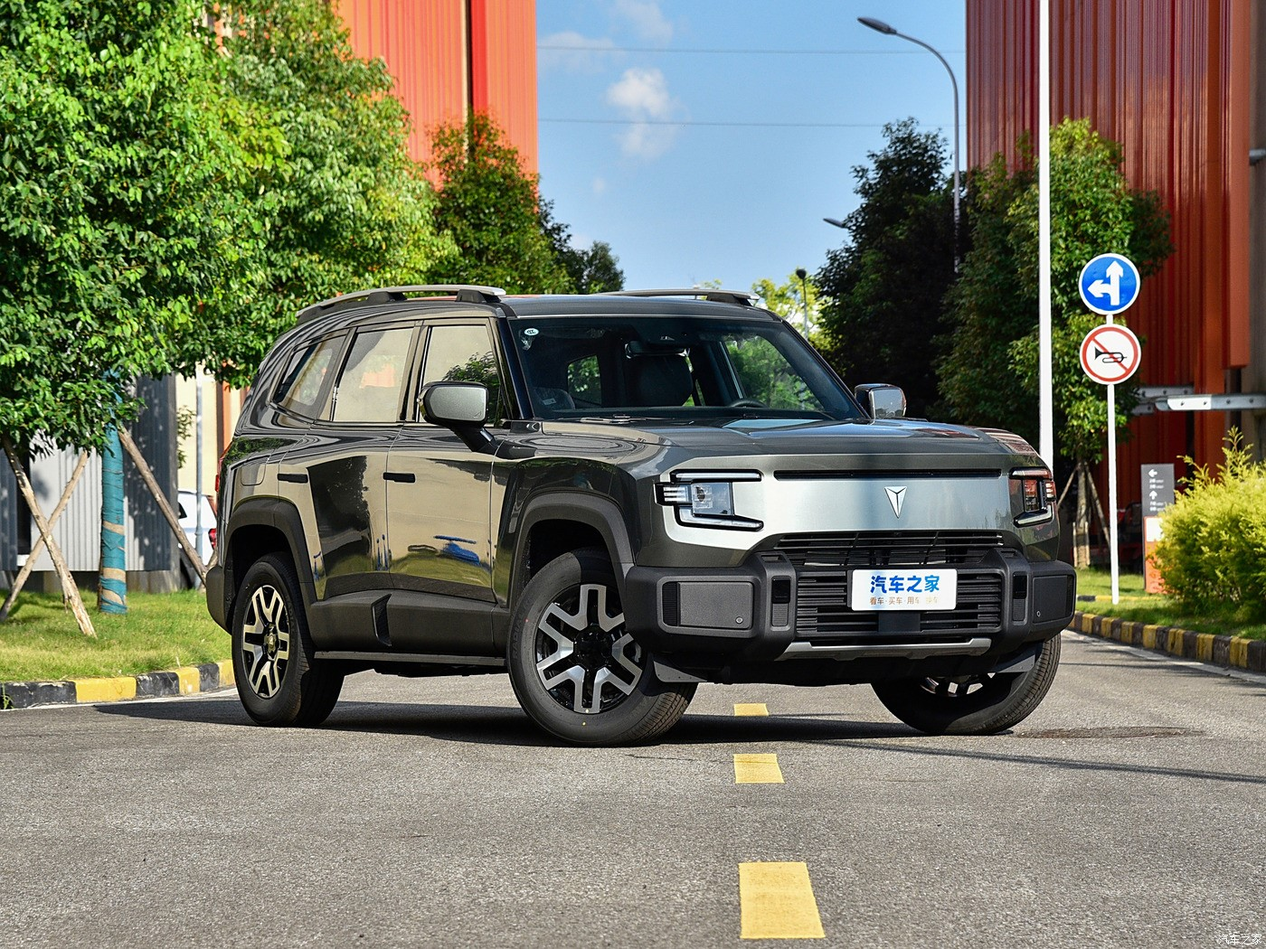Deepal: (885, 485, 907, 517)
